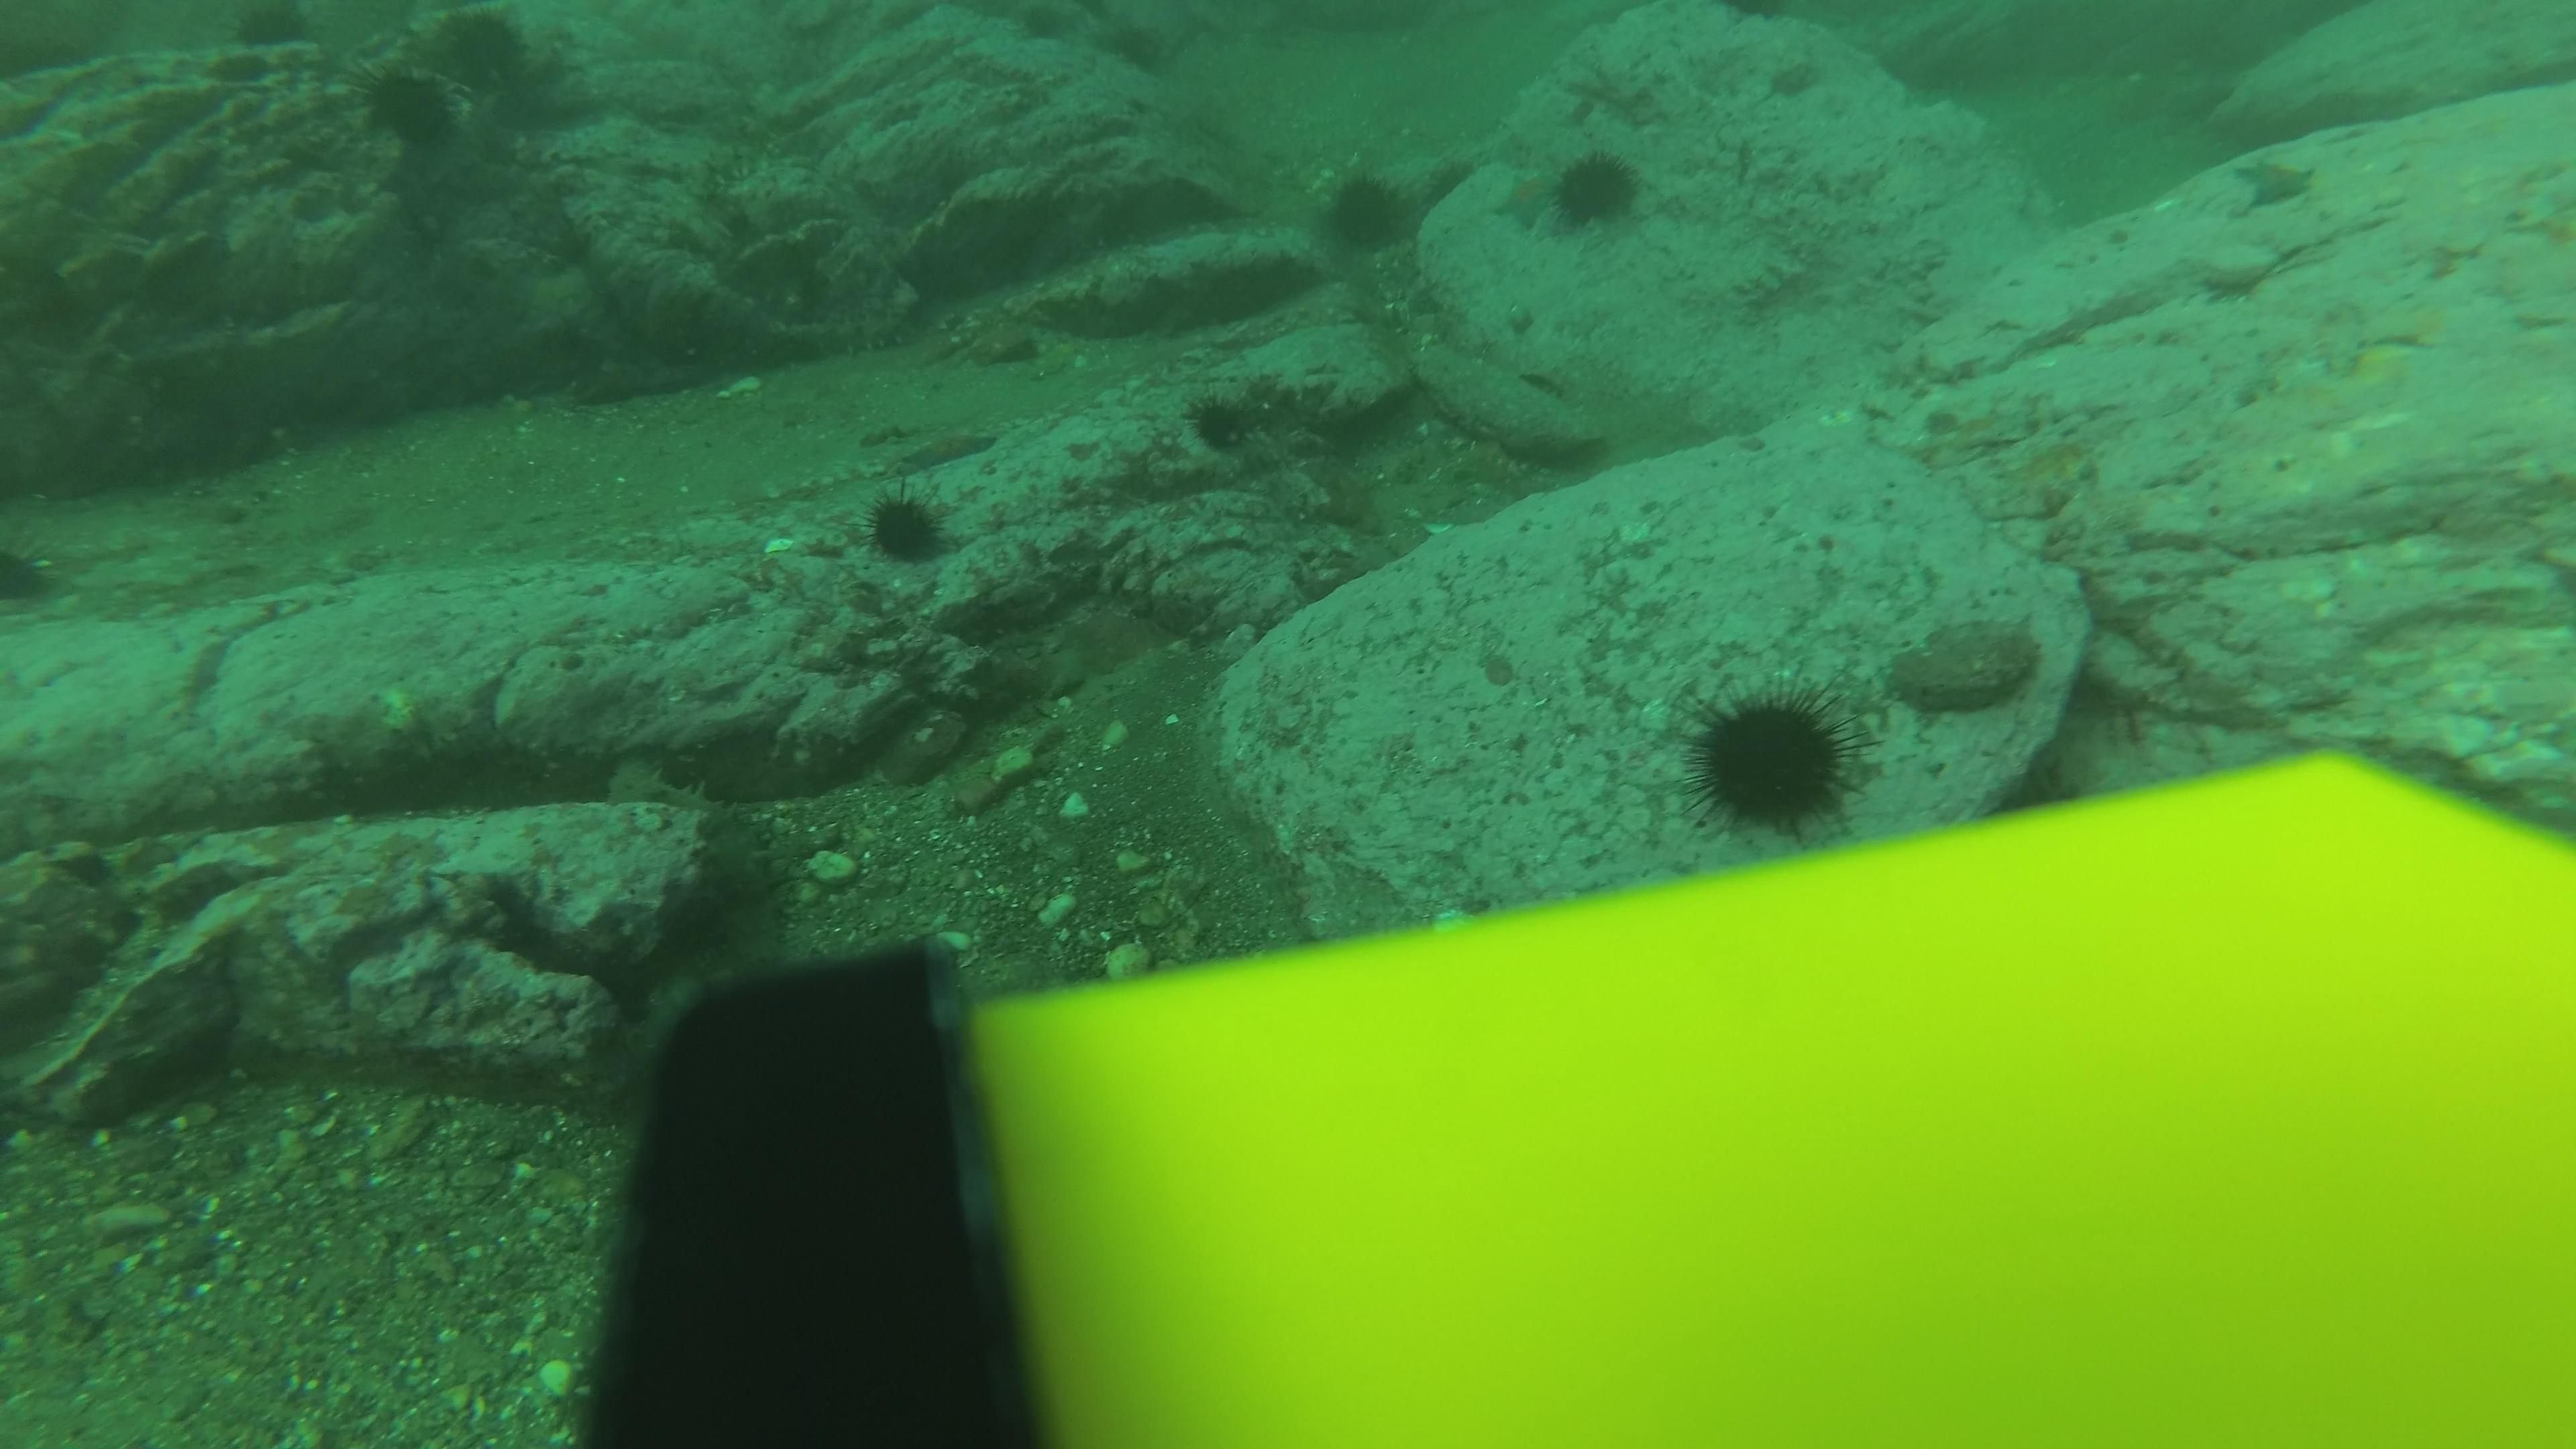echinus: (1679, 676, 1867, 835), (414, 5, 543, 103), (1530, 142, 1652, 239), (357, 60, 464, 154), (1316, 165, 1419, 257), (1099, 9, 1201, 101), (853, 483, 957, 571), (221, 2, 324, 65), (1182, 386, 1267, 458), (0, 534, 67, 619)
holothurian: (582, 747, 780, 890), (754, 308, 925, 372), (679, 138, 775, 196)
starfish: (885, 419, 1001, 474), (2226, 149, 2321, 214), (1491, 163, 1566, 239)
